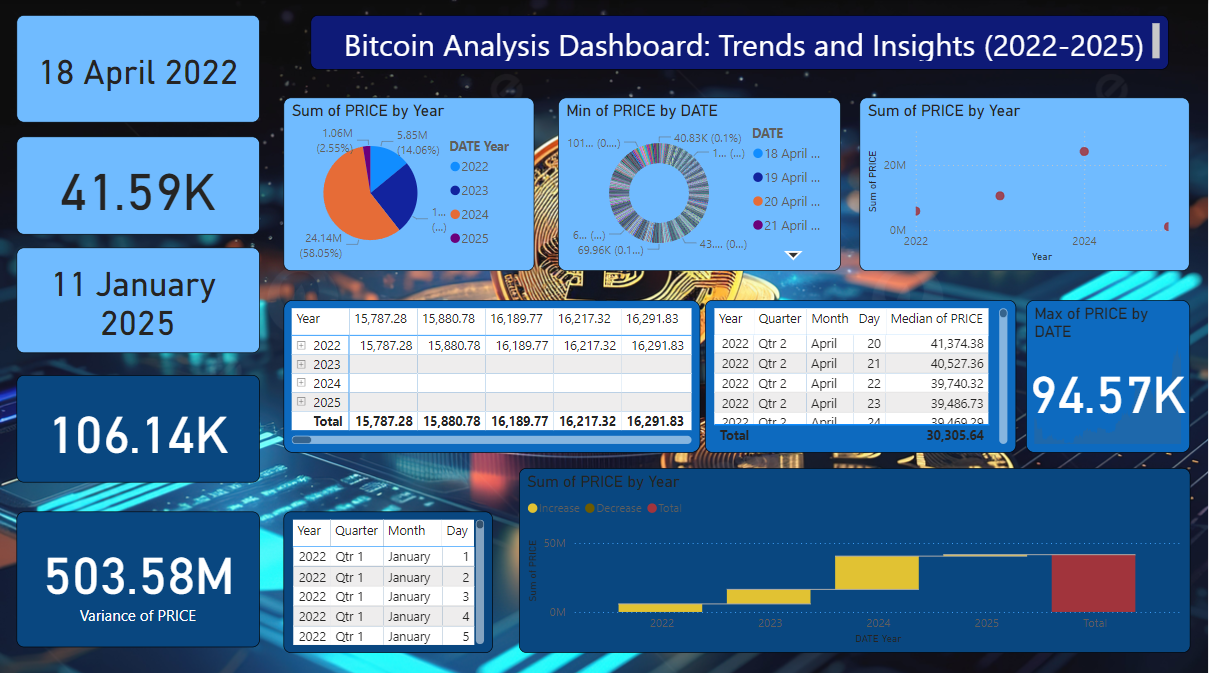

The page's visual inventory and layout, read from the dashboard file:
{"tool":"powerbi","page":{"name":"Page 1","canvas":[1280,720],"ordinal":0},"visuals":[{"type":"card","fields":{"Values":["Min(Data.DATE)"]},"box":[18,16,258,114],"z":0},{"type":"card","fields":{"Values":["Avg(Data.PRICE)"]},"box":[18,144,258,104],"z":1000},{"type":"card","fields":{"Values":["Max(Data.DATE)"]},"box":[18,262,258,112],"z":2000},{"type":"card","fields":{"Values":["Max(Data.PRICE)"]},"box":[18,398,258,114],"z":3000},{"type":"pieChart","fields":{"Category":["Data.DATE.Variation.Date Hierarchy.Year","Data.DATE.Variation.Date Hierarchy.Quarter","Data.DATE.Variation.Date Hierarchy.Month","Data.DATE.Variation.Date Hierarchy.Day"],"Y":["Sum(Data.PRICE)"]},"box":[300,104,266,184],"z":4000},{"type":"card","fields":{"Values":["Sum(Data.PRICE)"]},"box":[18,542,258,144],"z":5000},{"type":"scatterChart","fields":{"X":["Data.DATE.Variation.Date Hierarchy.Year","Data.DATE.Variation.Date Hierarchy.Quarter","Data.DATE.Variation.Date Hierarchy.Month","Data.DATE.Variation.Date Hierarchy.Day"],"Y":["Sum(Data.PRICE)"]},"box":[912,104,350,184],"z":6000},{"type":"pivotTable","fields":{"Rows":["Data.DATE.Variation.Date Hierarchy.Year","Data.DATE.Variation.Date Hierarchy.Quarter","Data.DATE.Variation.Date Hierarchy.Month","Data.DATE.Variation.Date Hierarchy.Day"],"Columns":["Data.PRICE"],"Values":["Max(Data.PRICE)"]},"box":[300,318,442,162],"z":7000},{"type":"tableEx","fields":{"Values":["Data.DATE.Variation.Date Hierarchy.Year","Data.DATE.Variation.Date Hierarchy.Quarter","Data.DATE.Variation.Date Hierarchy.Month","Data.DATE.Variation.Date Hierarchy.Day","Median(Data.PRICE)"]},"box":[748,318,330,162],"z":8000},{"type":"kpi","fields":{"Indicator":["Max(Data.PRICE)"],"TrendLine":["Data.DATE"]},"box":[1088,318,174,162],"z":9000},{"type":"donutChart","fields":{"Category":["Data.DATE"],"Y":["Min(Data.PRICE)"]},"box":[592,104,300,184],"z":10000},{"type":"tableEx","fields":{"Values":["Data.DATE.Variation.Date Hierarchy.Year","Data.DATE.Variation.Date Hierarchy.Quarter","Data.DATE.Variation.Date Hierarchy.Month","Data.DATE.Variation.Date Hierarchy.Day"]},"box":[300,542,222,150],"z":11000},{"type":"waterfallChart","fields":{"Category":["Data.DATE.Variation.Date Hierarchy.Year","Data.DATE.Variation.Date Hierarchy.Quarter","Data.DATE.Variation.Date Hierarchy.Month","Data.DATE.Variation.Date Hierarchy.Day"],"Y":["Sum(Data.PRICE)"]},"box":[550,496,712,196],"z":12000},{"type":"textbox","box":[330,16,910,58],"z":13000}]}

Visuals, with their boxes in screenshot pixels (x1, y1, x2, y2), scaled from the page's 1280x720 canvas onto the 1209x673 screenshot:
card - Min(Data.DATE): l=17, t=15, r=261, b=122
card - Avg(Data.PRICE): l=17, t=135, r=261, b=232
card - Max(Data.DATE): l=17, t=245, r=261, b=350
card - Max(Data.PRICE): l=17, t=372, r=261, b=479
pieChart - Data.DATE.Variation.Date Hierarchy.Year x Data.DATE.Variation.Date Hierarchy.Quarter: l=283, t=97, r=535, b=269
card - Sum(Data.PRICE): l=17, t=507, r=261, b=641
scatterChart - Data.DATE.Variation.Date Hierarchy.Year x Data.DATE.Variation.Date Hierarchy.Quarter: l=861, t=97, r=1192, b=269
pivotTable - Data.DATE.Variation.Date Hierarchy.Year x Data.DATE.Variation.Date Hierarchy.Quarter: l=283, t=297, r=701, b=449
tableEx - Data.DATE.Variation.Date Hierarchy.Year x Data.DATE.Variation.Date Hierarchy.Quarter: l=707, t=297, r=1018, b=449
kpi - Max(Data.PRICE) x Data.DATE: l=1028, t=297, r=1192, b=449
donutChart - Data.DATE x Min(Data.PRICE): l=559, t=97, r=843, b=269
tableEx - Data.DATE.Variation.Date Hierarchy.Year x Data.DATE.Variation.Date Hierarchy.Quarter: l=283, t=507, r=493, b=647
waterfallChart - Data.DATE.Variation.Date Hierarchy.Year x Data.DATE.Variation.Date Hierarchy.Quarter: l=519, t=464, r=1192, b=647
textbox: l=312, t=15, r=1171, b=69
